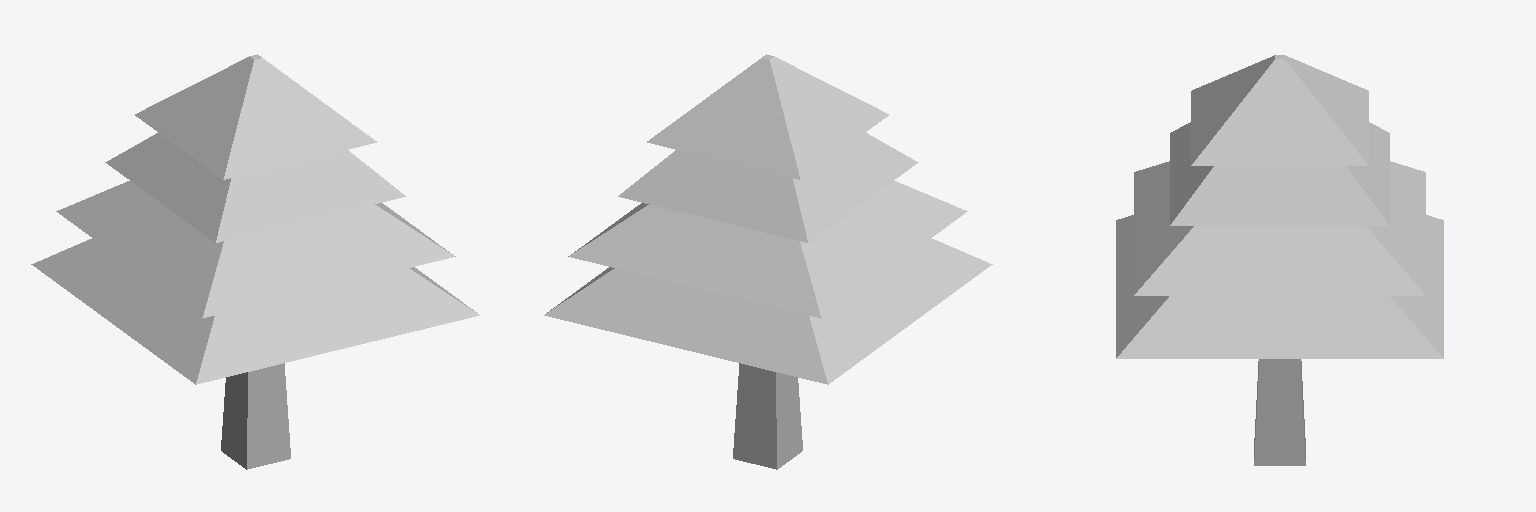
The model's file is Tree03.obj.
The picture shows the model from 3 angles: view 1: azimuth 30°, elevation 25°; view 2: azimuth 150°, elevation 25°; view 3: azimuth 270°, elevation 25°; orthographic projection.
Visible parts, largest first — view 1: Leaves_Cube.001, Trunk_Cube; view 2: Leaves_Cube.001, Trunk_Cube; view 3: Leaves_Cube.001, Trunk_Cube.
Part boxes in pixels (bbox=[...]): Leaves_Cube.001: bbox=[31, 54, 479, 384]; Trunk_Cube: bbox=[221, 363, 290, 469]; Leaves_Cube.001: bbox=[544, 54, 992, 384]; Trunk_Cube: bbox=[733, 363, 802, 469]; Leaves_Cube.001: bbox=[1116, 55, 1443, 358]; Trunk_Cube: bbox=[1254, 359, 1305, 465].
Size of the model in its own units: 1.25 by 1.67 by 1.25.